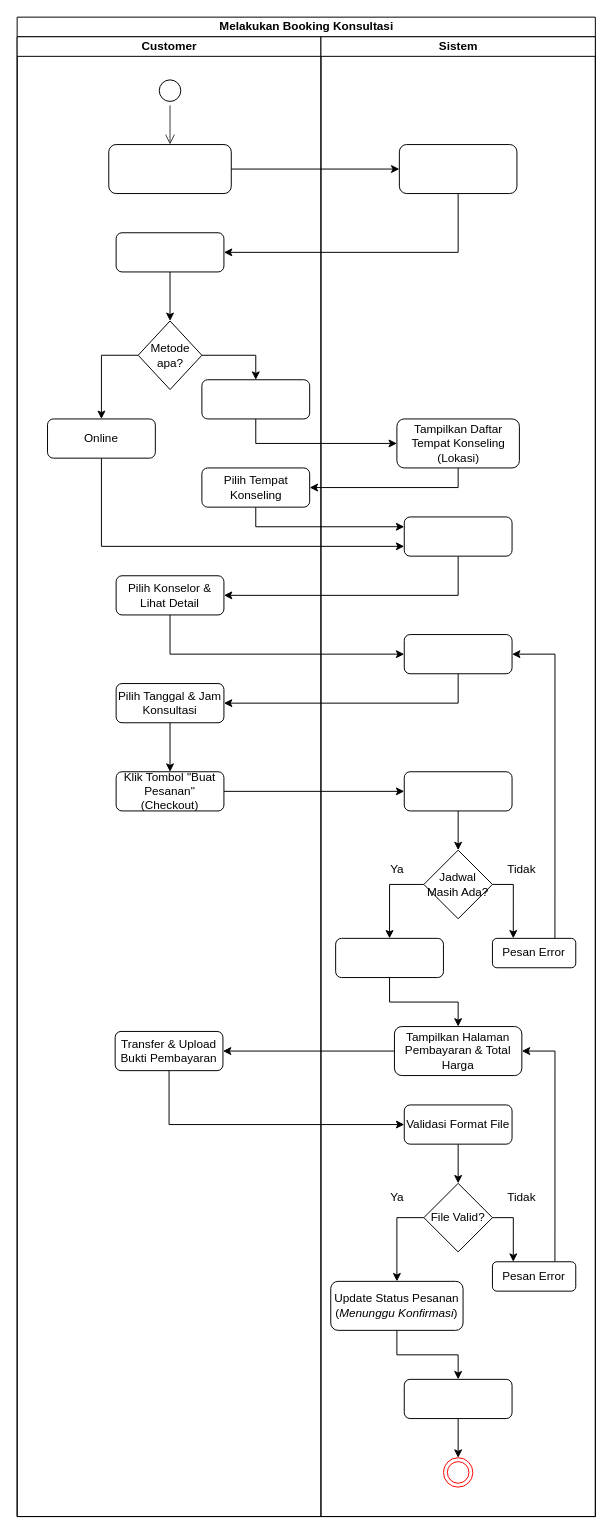
This 613x1534 diagram has some shape labels left out. Here are the shapes that lost their labels. From the top down, the centre of each, then its label:
(x=169, y=169): Klik Menu "Booking"
(x=457, y=169): Tampilkan Pilihan Metode (Online / Offline)
(x=169, y=252): Memilih Metode Layanan
(x=255, y=399): Offline
(x=457, y=536): Tampilkan Daftar Konselor Spesialis
(x=457, y=654): Tampilkan Profil Lengkap & Slot Jadwal
(x=457, y=791): Validasi Ketersediaan Jadwal
(x=389, y=957): Simpan Pesan (Status: Pending/Unpaid )
(x=457, y=1398): Tampilkan Notifikasi Sukses
